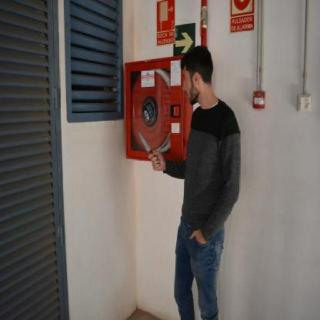knife: (137, 129, 155, 159)
